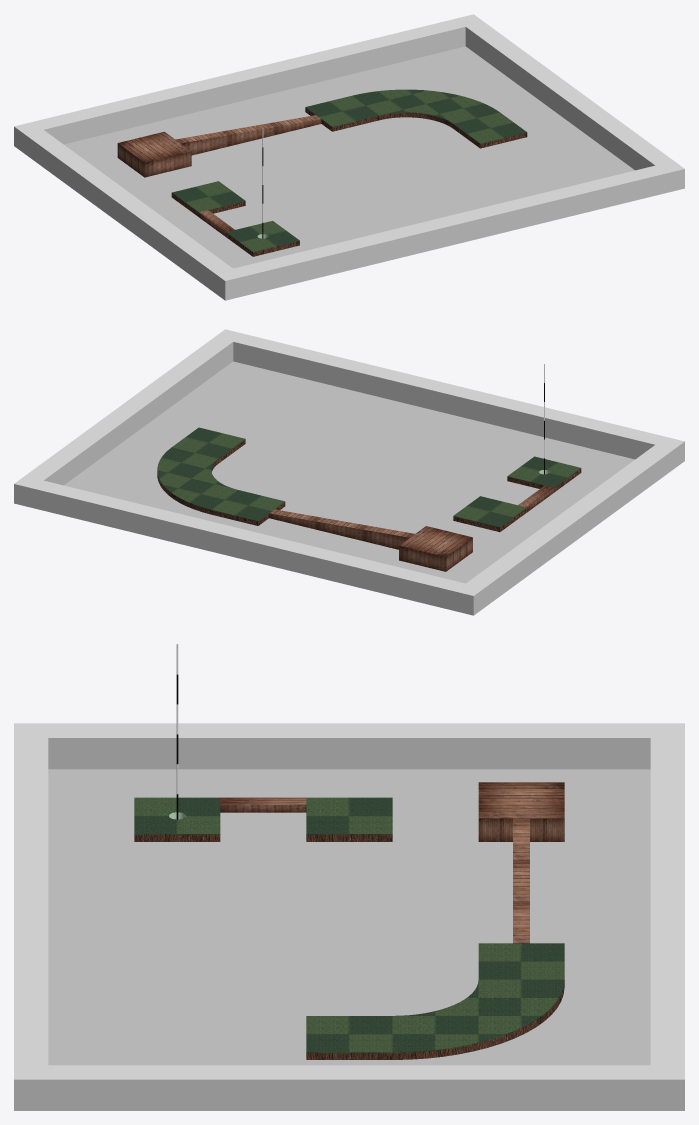
3 views of the same model, one above another, from view 1: azimuth 30°, elevation 25°; view 2: azimuth 150°, elevation 25°; view 3: azimuth 270°, elevation 25° (orthographic). The views are drawn at different scales.
Visible parts, largest first — view 1: pool, barrier1, barrier2, grassland, platform, square; view 2: pool, barrier1, barrier2, grassland, platform, square; view 3: pool, barrier2, grassland, barrier1, platform, square, organ.
Part boxes in pixels (box(x1,y1,x2,y2)): pool: box(64, 46, 634, 268); barrier1: box(33, 19, 666, 295); barrier2: box(25, 22, 673, 292); grassland: box(171, 89, 527, 256); platform: box(117, 115, 321, 177); square: box(14, 14, 684, 300); pool: box(64, 361, 634, 583); barrier1: box(32, 334, 665, 610); barrier2: box(25, 337, 673, 607); grassland: box(157, 427, 581, 531); platform: box(269, 509, 472, 571); square: box(14, 329, 684, 615); pool: box(48, 769, 650, 1065); barrier2: box(48, 723, 650, 1110); grassland: box(134, 797, 564, 1059); barrier1: box(14, 738, 684, 1065); platform: box(478, 782, 564, 943); square: box(14, 723, 684, 1110); organ: box(220, 797, 306, 812).
Bounding box in the file's own units: 98 × 23 × 78.
